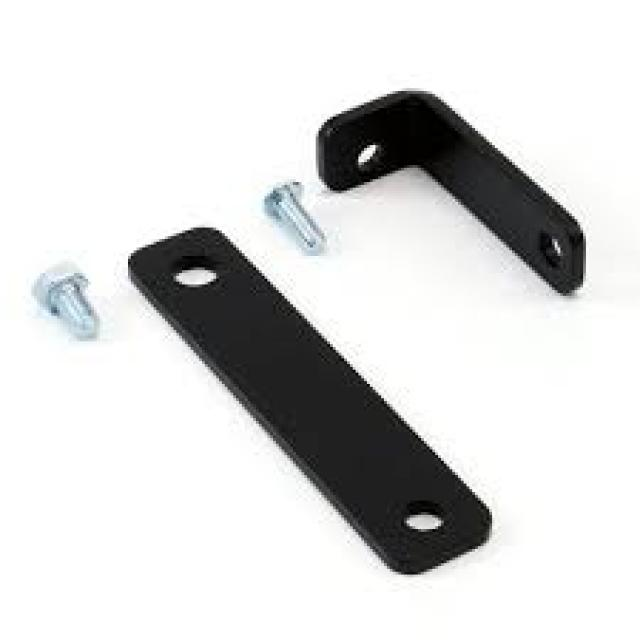holes: (159, 252, 225, 293), (393, 496, 447, 542), (346, 141, 383, 167)
